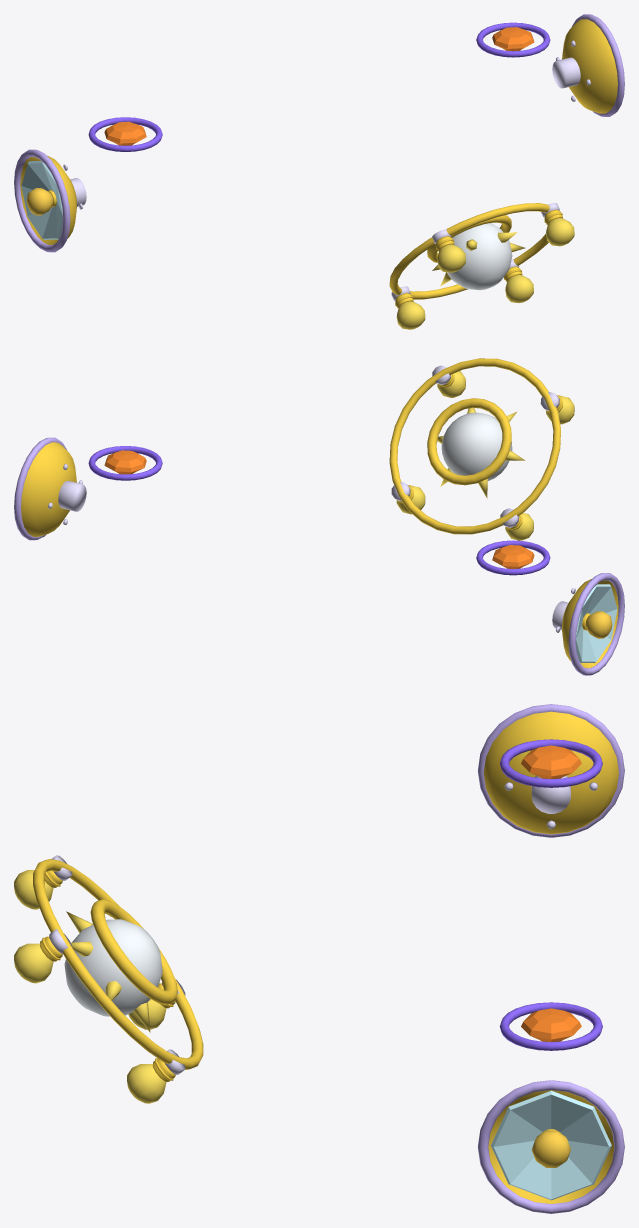
File: HeatLamp_T4_Upgrades.fbx
The picture shows the model from 3 angles, top to bottom: view 1: azimuth 30°, elevation 25°; view 2: azimuth 150°, elevation 25°; view 3: azimuth 270°, elevation 25°; orthographic projection. The views are drawn at different scales.
Parts seen in each view (by area): view 1: HeatLampT4U3Reflector1, HeatLampT4U1Bulbs, HeatLampT4U5SunBulbGlow, HeatLampT4U3Reflector2, HeatLampT4U1BulbsGlow, HeatLampT4U3Reflector2Glow, HeatLampT4U2Beacon1Glow, HeatLampT4U2Beacon2Glow, HeatLampT4U3Reflector1Glow, HeatLampT4U5SunBulb; view 2: HeatLampT4U1Bulbs, HeatLampT4U3Reflector1, HeatLampT4U5SunBulbGlow, HeatLampT4U3Reflector2, HeatLampT4U5SunBulb, HeatLampT4U3Reflector2Glow, HeatLampT4U2Beacon2Glow, HeatLampT4U2Beacon1Glow, HeatLampT4U1BulbsGlow, HeatLampT4U3Reflector1Glow; view 3: HeatLampT4U3Reflector1, HeatLampT4U3Reflector2, HeatLampT4U1Bulbs, HeatLampT4U5SunBulbGlow, HeatLampT4U3Reflector1Glow, HeatLampT4U1BulbsGlow, HeatLampT4U2Beacon2Glow, HeatLampT4U2Beacon1Glow, HeatLampT4U5SunBulb, HeatLampT4U3Reflector2Glow.
Boxes of the visible parts, box(x1,y1,x2,y2) form: HeatLampT4U3Reflector1: box(552, 19, 617, 113); HeatLampT4U1Bulbs: box(389, 203, 562, 308); HeatLampT4U5SunBulbGlow: box(432, 223, 525, 290); HeatLampT4U3Reflector2: box(20, 155, 86, 244); HeatLampT4U1BulbsGlow: box(396, 218, 574, 329); HeatLampT4U3Reflector2Glow: box(14, 149, 70, 252); HeatLampT4U2Beacon1Glow: box(476, 22, 550, 57); HeatLampT4U2Beacon2Glow: box(88, 117, 162, 151); HeatLampT4U3Reflector1Glow: box(572, 14, 624, 116); HeatLampT4U5SunBulb: box(427, 215, 511, 262); HeatLampT4U1Bulbs: box(389, 358, 562, 534); HeatLampT4U3Reflector1: box(21, 442, 86, 536); HeatLampT4U5SunBulbGlow: box(437, 407, 525, 498); HeatLampT4U3Reflector2: box(552, 579, 618, 668); HeatLampT4U5SunBulb: box(427, 398, 511, 485); HeatLampT4U3Reflector2Glow: box(568, 573, 624, 675); HeatLampT4U2Beacon2Glow: box(476, 540, 550, 575); HeatLampT4U2Beacon1Glow: box(88, 446, 162, 480); HeatLampT4U1BulbsGlow: box(396, 371, 574, 540); HeatLampT4U3Reflector1Glow: box(14, 437, 67, 540); HeatLampT4U3Reflector1: box(488, 1090, 614, 1203); HeatLampT4U3Reflector2: box(483, 711, 618, 834); HeatLampT4U1Bulbs: box(33, 855, 203, 1081); HeatLampT4U5SunBulbGlow: box(64, 911, 162, 1032); HeatLampT4U3Reflector1Glow: box(478, 1080, 624, 1213); HeatLampT4U1BulbsGlow: box(14, 870, 166, 1103); HeatLampT4U2Beacon2Glow: box(499, 739, 602, 787); HeatLampT4U2Beacon1Glow: box(499, 1002, 602, 1050); HeatLampT4U5SunBulb: box(90, 899, 177, 1004); HeatLampT4U3Reflector2Glow: box(478, 704, 624, 837).
Size of the model in its own units: 254 by 57.27 by 167.
